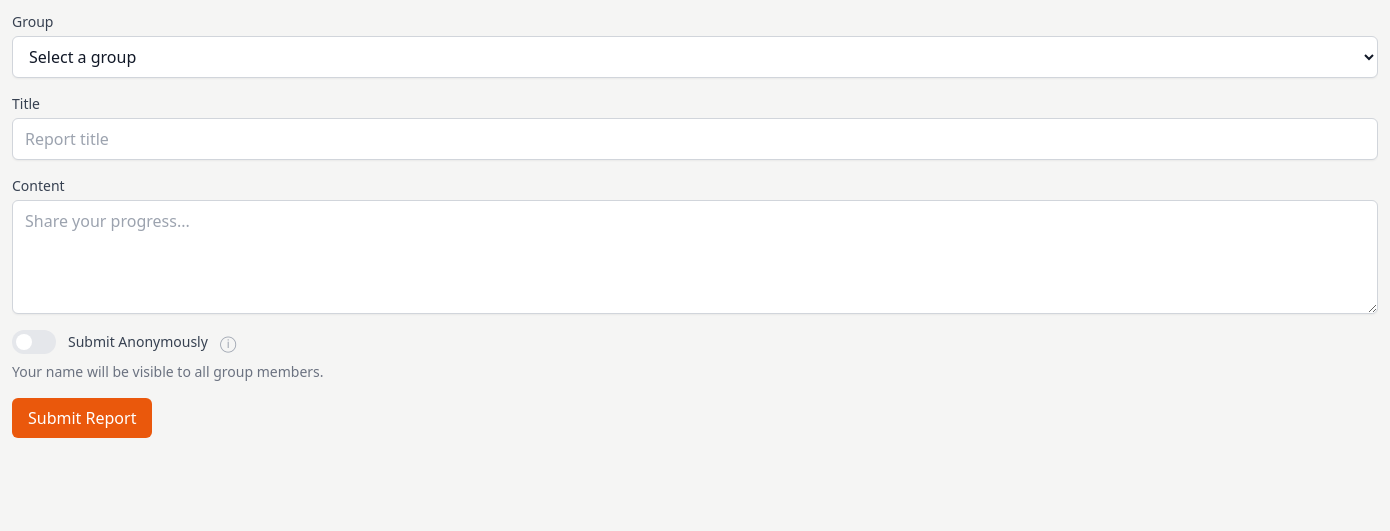
Test case: CreateReportForm › should validate required fields
Click the button "Submit Report". click: (82, 418)
box: [12,398,152,438]
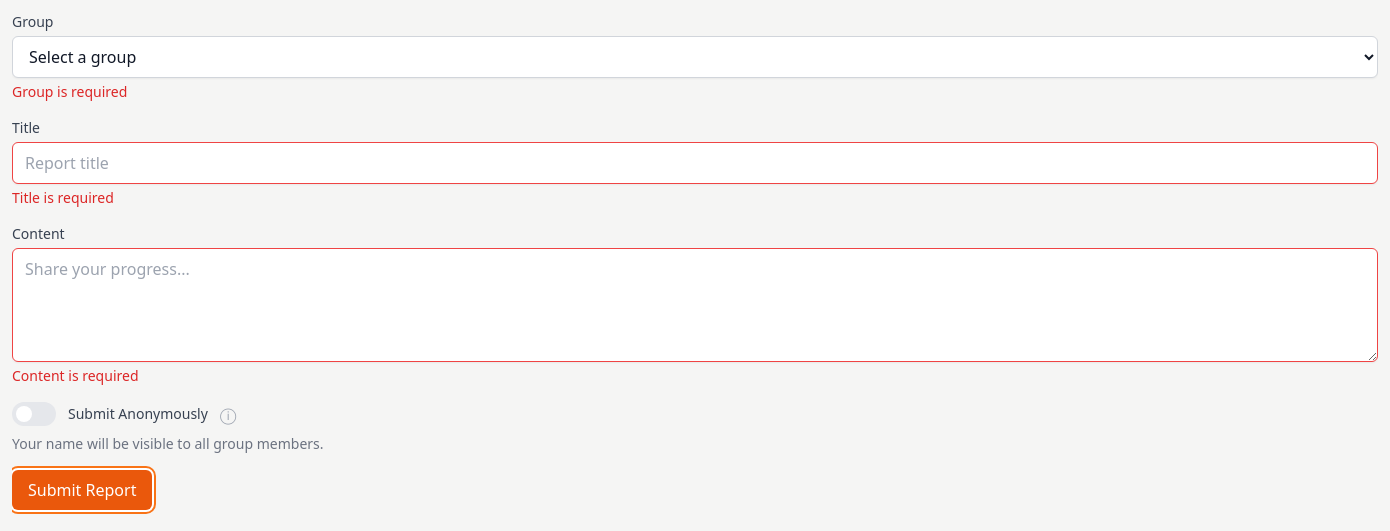
Expected: the text "Title is required" is shown, [12,188,114,207]
Expected: the text "Content is required" is shown, [12,366,138,385]
